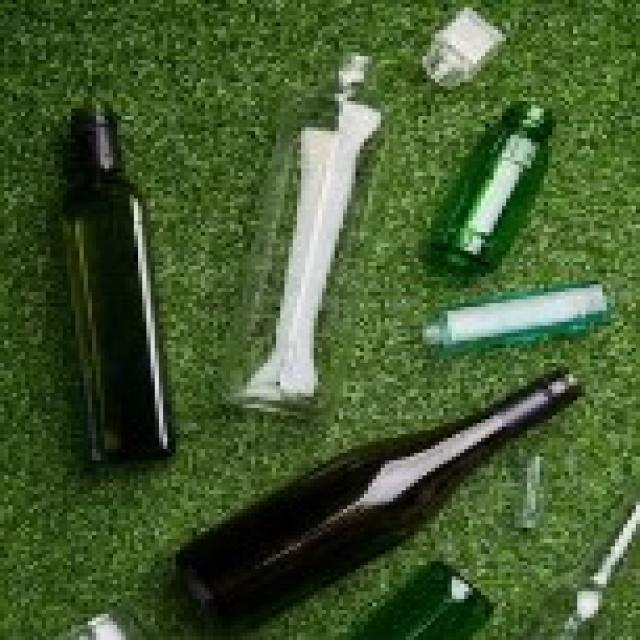electronic: (55, 46, 636, 640)
